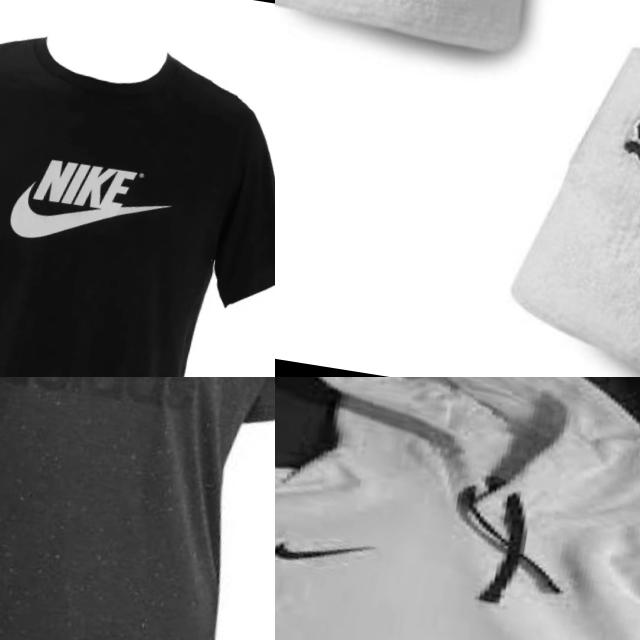ADIDAS_original: (0, 377, 226, 448)
NIKE_original: (0, 134, 192, 279), (275, 504, 403, 595)
PUMA_original: (591, 95, 640, 326)
